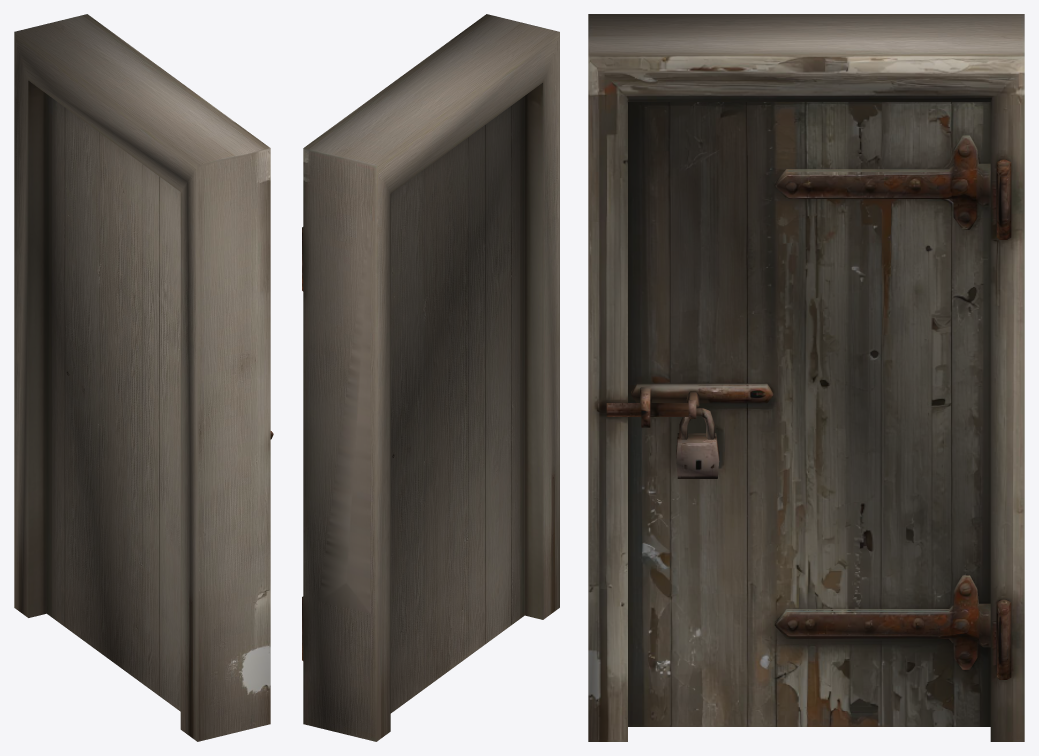
The model's file is Arch_Door_StorageClean.fbx.
3 renders of one model, left to right at view 1: azimuth 30°, elevation 25°; view 2: azimuth 150°, elevation 25°; view 3: azimuth 270°, elevation 25°, orthographic. The views are drawn at different scales.
Visible parts, largest first — view 1: Arch_Door_StorageClean_Body; view 2: Arch_Door_StorageClean_Body; view 3: Arch_Door_StorageClean_Body, Arch_Door_StorageClean_Hasp.
Part boxes in pixels (left/top/right/bottom): Arch_Door_StorageClean_Body: left=14, top=14, right=270, bottom=741; Arch_Door_StorageClean_Body: left=302, top=14, right=559, bottom=741; Arch_Door_StorageClean_Body: left=588, top=14, right=1024, bottom=741; Arch_Door_StorageClean_Hasp: left=606, top=403, right=719, bottom=478.
Bounding box in the file's own units: 33.29 × 210 × 121.
Materials: 1 (1 with a texture image).
